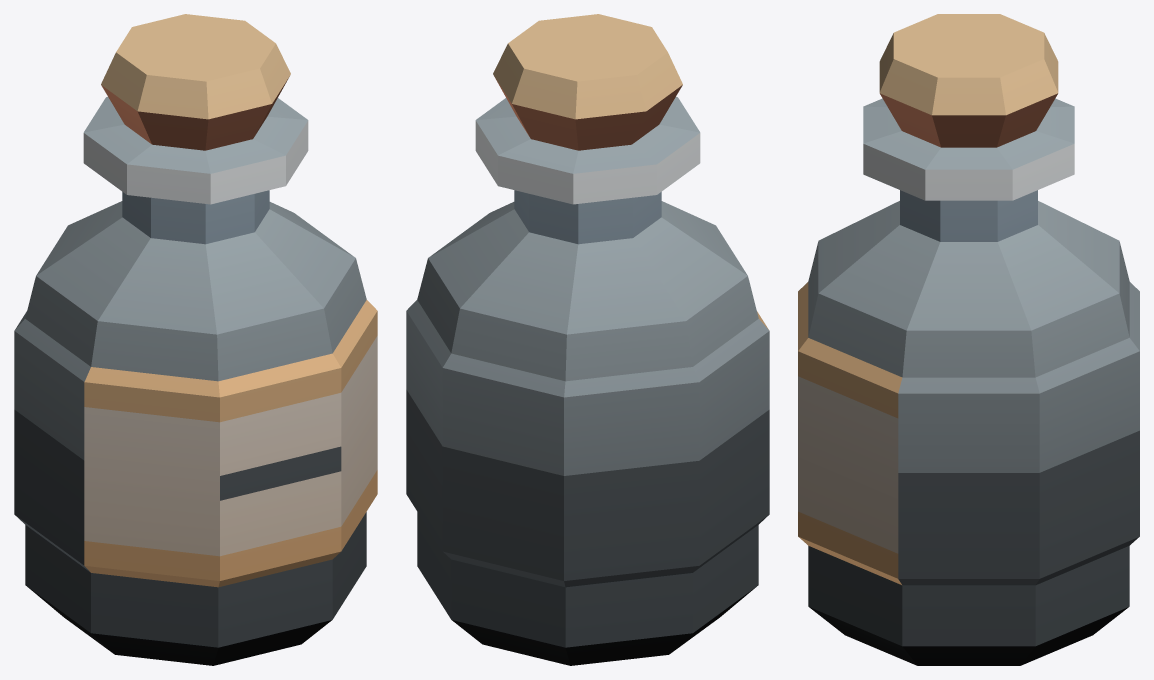
File: potion_medium_obsidian.glb
3 views of the same model, side by side, from view 1: azimuth 30°, elevation 25°; view 2: azimuth 150°, elevation 25°; view 3: azimuth 270°, elevation 25° (orthographic).
Parts seen in each view (by area): view 1: model; view 2: model; view 3: model.
Part boxes in pixels (x1,y1,x2,y2): model: (14,14,377,665); model: (406,14,769,665); model: (798,14,1139,665).
Size of the model in its own units: 0.48 by 0.88 by 0.48.
Materials: 1 (1 with a texture image).
